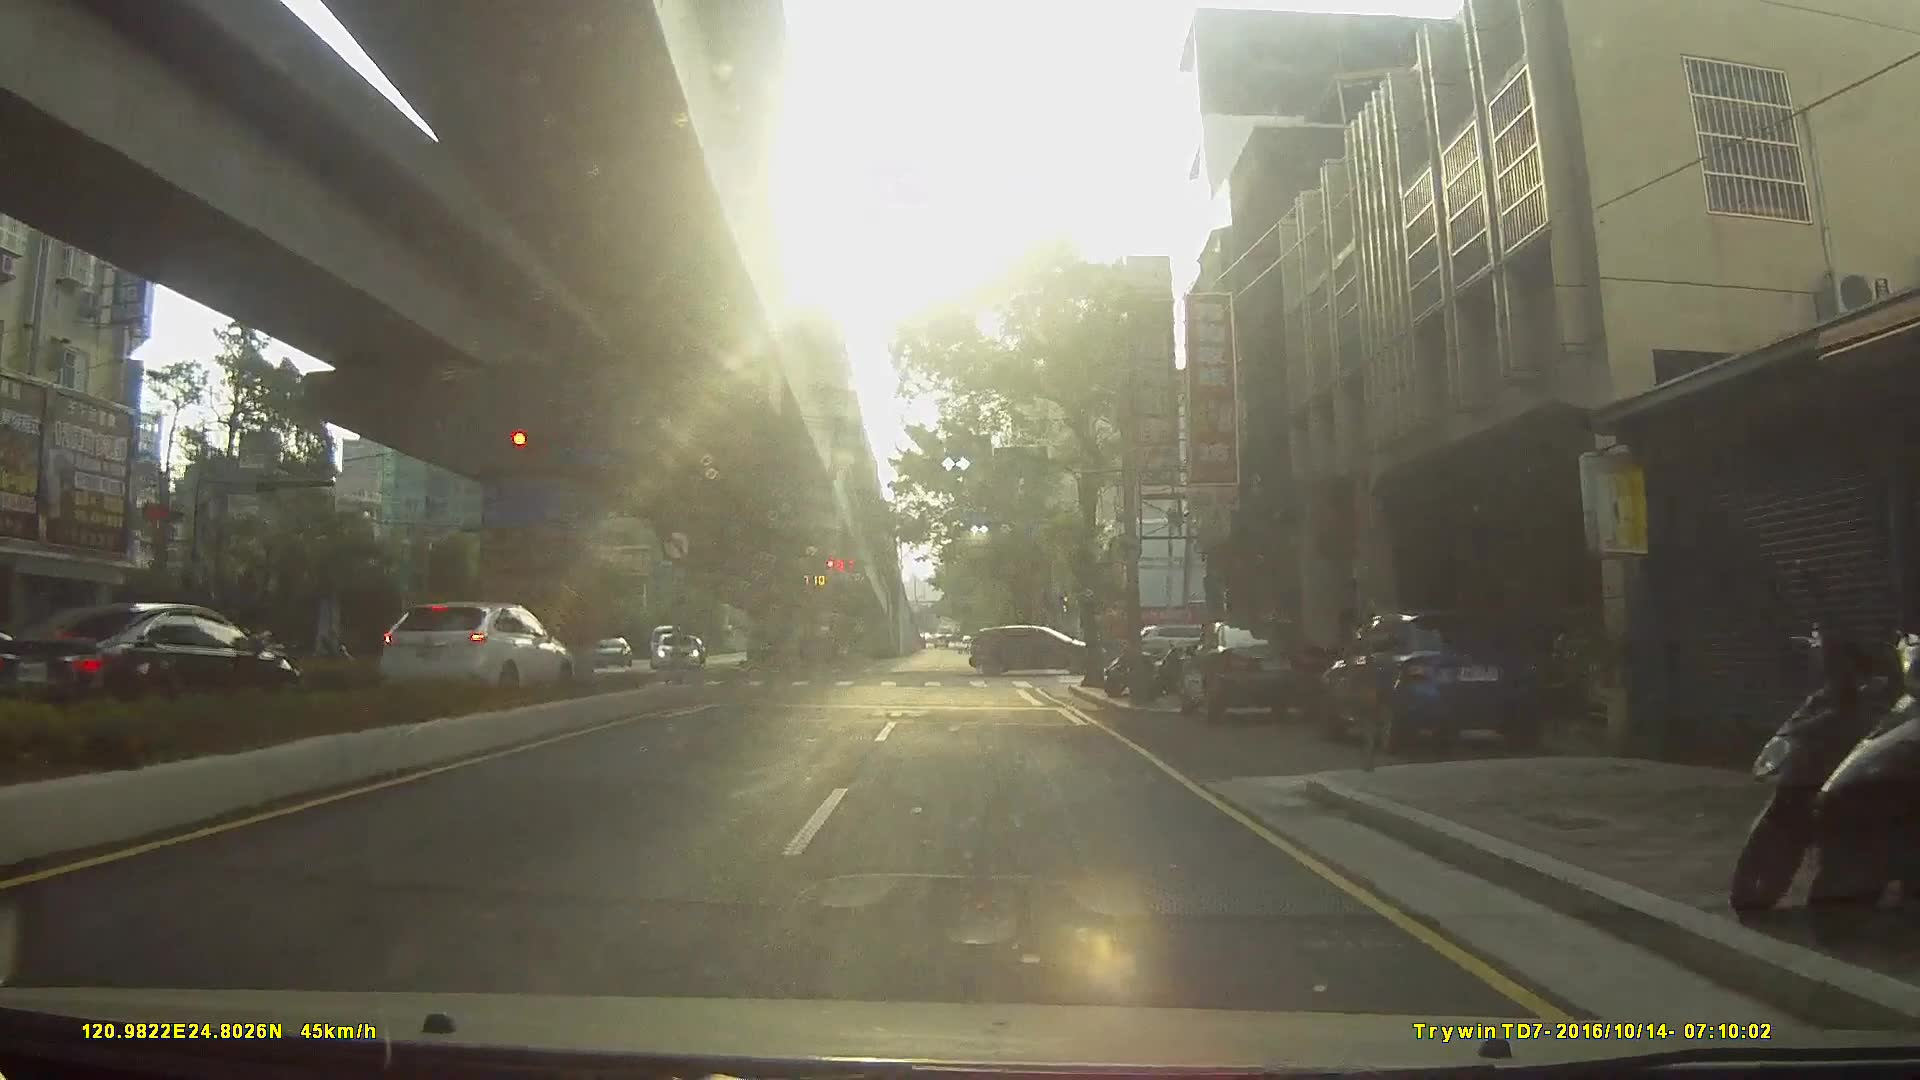vehicle: (3, 592, 316, 727), (1324, 607, 1561, 758), (363, 597, 582, 702), (1182, 616, 1332, 725), (971, 621, 1114, 675), (649, 626, 698, 667), (585, 634, 630, 665)
